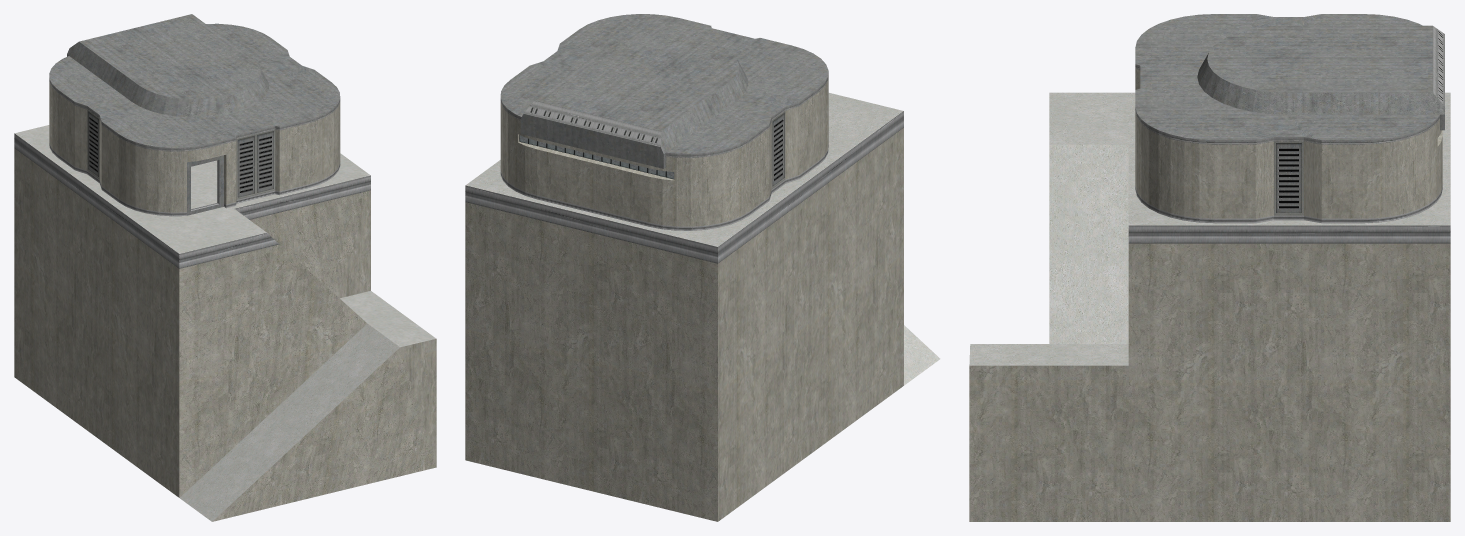
File: ply_corl_house_sm_s02_fp1_r0_mesh_l0.fbx
The picture shows the model from 3 angles, left to right: view 1: azimuth 30°, elevation 25°; view 2: azimuth 150°, elevation 25°; view 3: azimuth 270°, elevation 25°; orthographic projection. The views are drawn at different scales.
Visible parts, largest first — view 1: mesh_node; view 2: mesh_node; view 3: mesh_node.
Part boxes in pixels (x1,y1,x2,y2): mesh_node: (14,14,436,521); mesh_node: (465,14,940,521); mesh_node: (969,14,1450,521).
Bounding box in the file's own units: 15.87 × 22.12 × 24.27.
